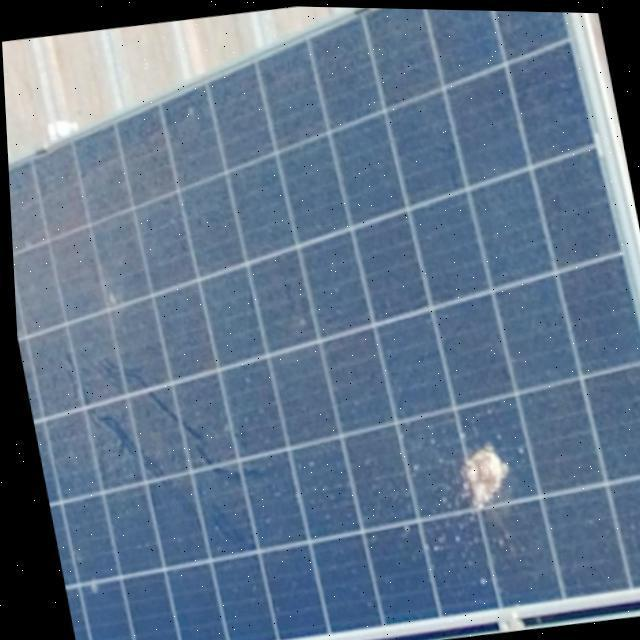Surface Contaminant: (7, 7, 640, 640), (443, 425, 507, 532)
